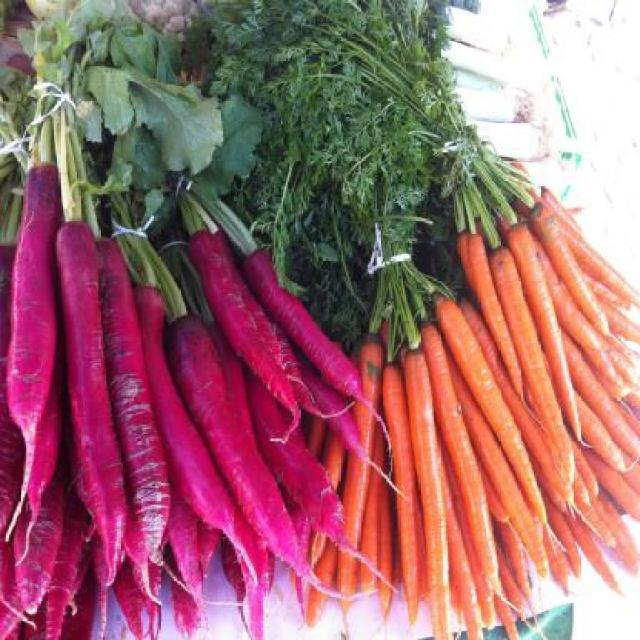Carrot: (289, 162, 640, 640), (348, 331, 386, 640)
